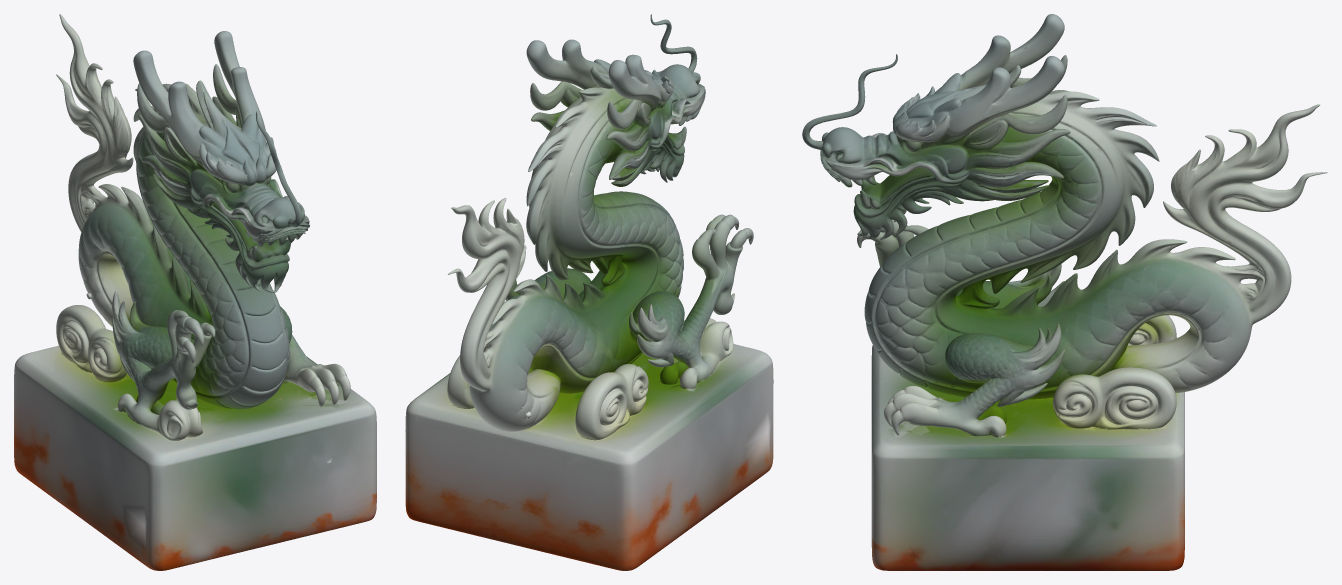
File: yzyuxi.glb
The picture shows the model from 3 angles, left to right: view 1: azimuth 30°, elevation 25°; view 2: azimuth 150°, elevation 25°; view 3: azimuth 270°, elevation 25°; orthographic projection. The views are drawn at different scales.
Parts seen in each view (by area): view 1: node_0; view 2: node_0; view 3: node_0.
Boxes of the visible parts, left/top/right/bottom form: node_0: left=14, top=14, right=376, bottom=570; node_0: left=405, top=14, right=773, bottom=570; node_0: left=802, top=14, right=1327, bottom=570.
Bounding box in the file's own units: 0.4841 × 0.9045 × 0.9028.
1 material, 1 textured.
